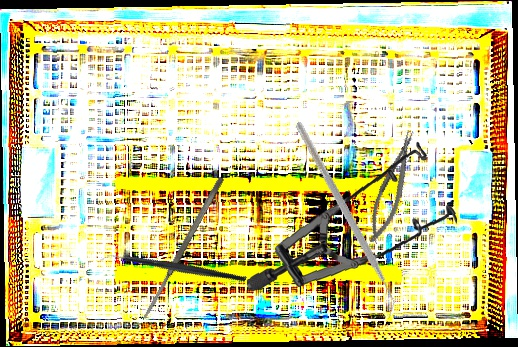Chopper: (234, 120, 453, 321), (98, 208, 248, 331)
Needle Holder: (360, 127, 426, 247)
Spatula Surgical: (140, 176, 226, 320)
Speculum: (246, 129, 463, 307)
